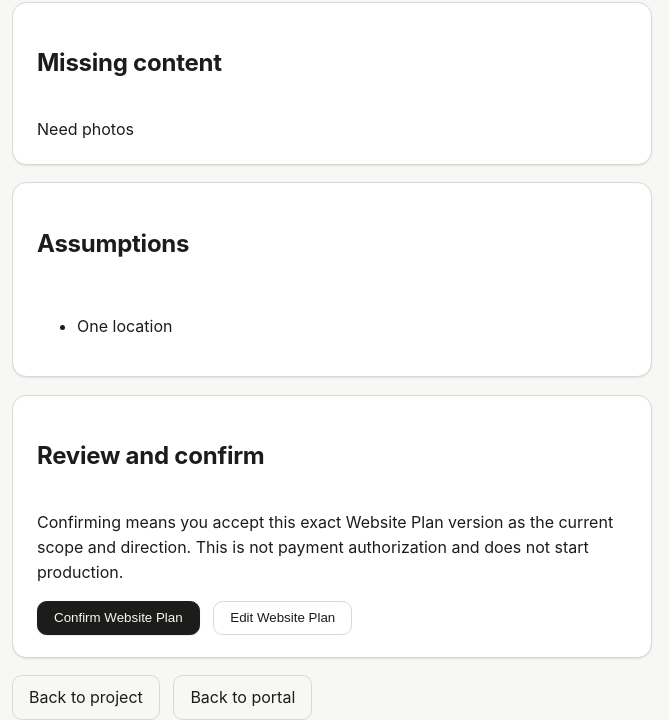
it: WebsitePlanPanel › shows owner pending copy for Custom confirm
(page scrolled)
Click the button "Confirm Website Plan". click: click(118, 618)
box: [37,601,200,635]
(page scrolled)
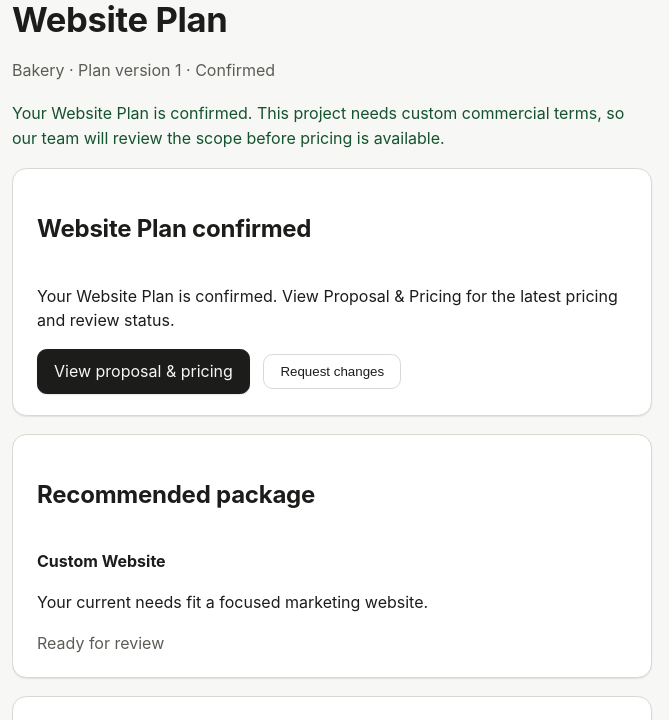
Expected: the text "custom commercial terms" is shown, [12,103,624,148]
